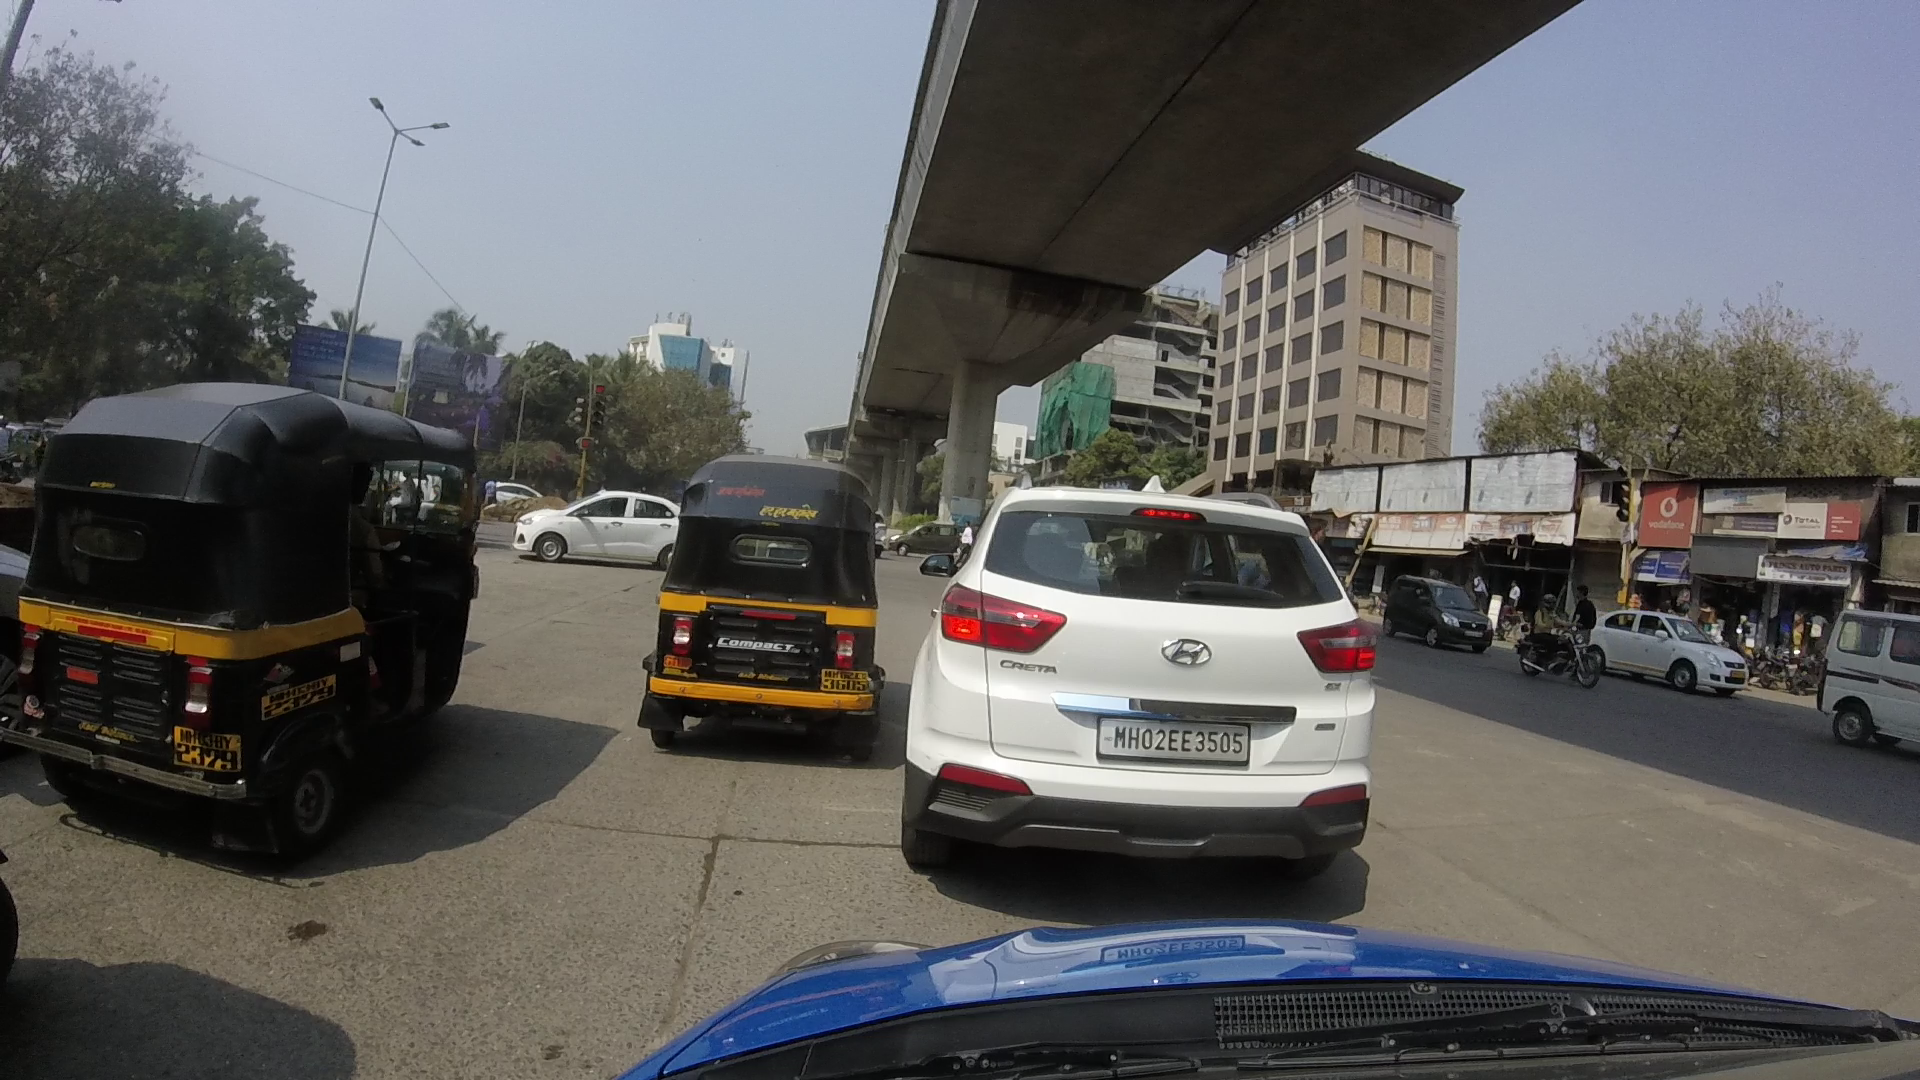car: (919, 492, 1349, 874), (1799, 585, 1919, 748), (1590, 607, 1746, 716), (531, 489, 687, 572), (1385, 574, 1462, 645)
rickshaw: (46, 375, 455, 833), (673, 451, 876, 738)
